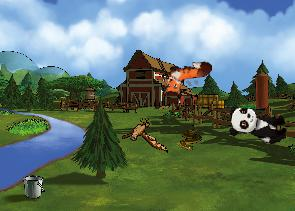eagle: (121, 117, 168, 153)
fox: (159, 59, 214, 100)
panda: (226, 104, 290, 145)
